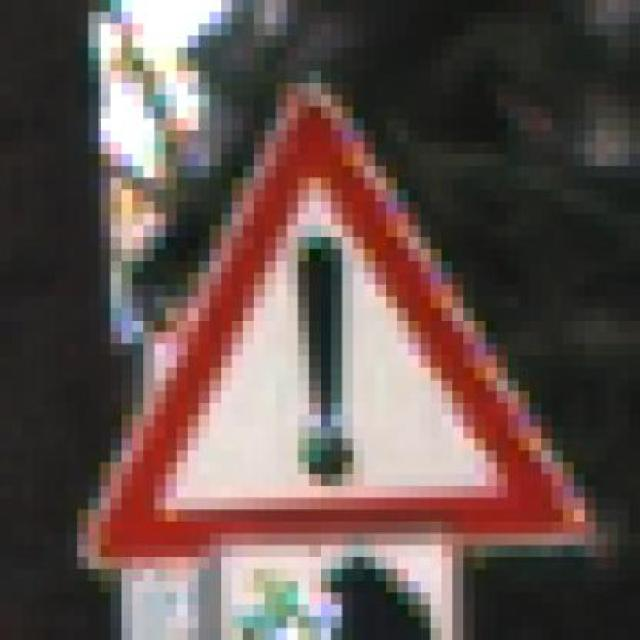Attention Please-: (66, 71, 619, 592)
